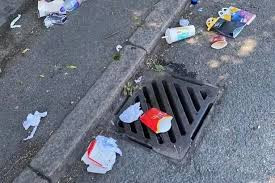cardboard: (83, 131, 140, 183), (42, 10, 74, 30)
paper: (15, 96, 58, 142), (206, 4, 258, 37), (118, 101, 141, 125), (8, 8, 27, 32)
plastic: (137, 102, 176, 133), (154, 23, 206, 43), (30, 0, 67, 15), (61, 0, 93, 16)
